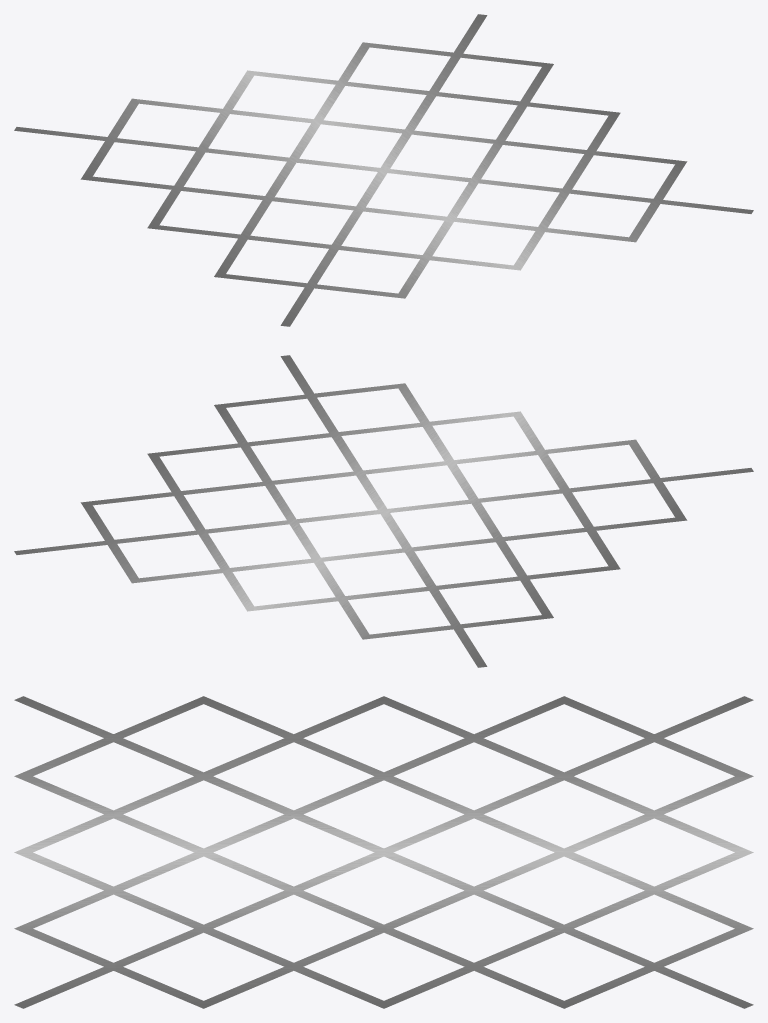
The model's file is Grill.fbx.
3 renders of one model, top to bottom at view 1: azimuth 30°, elevation 25°; view 2: azimuth 150°, elevation 25°; view 3: azimuth 270°, elevation 25°, orthographic. The views are drawn at different scales.
Visible parts, largest first — view 1: Grill; view 2: Grill; view 3: Grill.
Part boxes in pixels (box(x1,y1,x2,y2)): Grill: box(14, 14, 753, 326); Grill: box(14, 355, 753, 667); Grill: box(14, 696, 753, 1008).
Bounding box in the file's own units: 552 × 0.000242 × 552.
